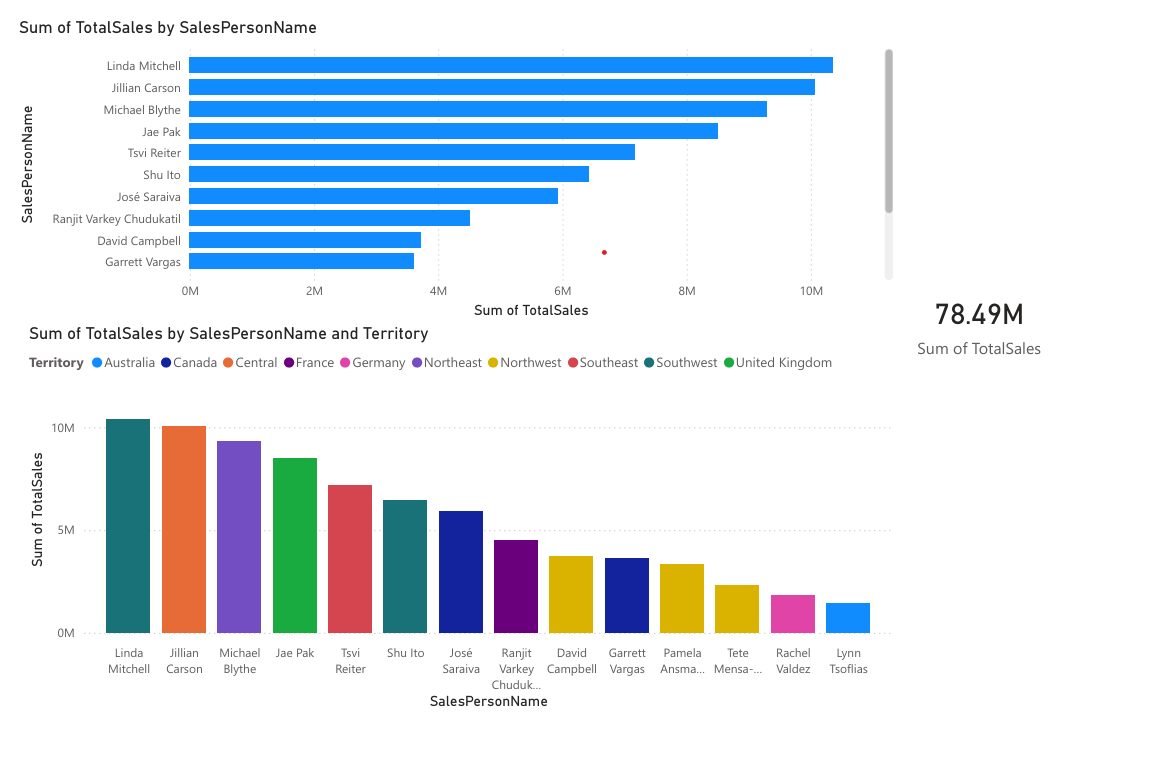

Layout of this report page (visuals, bound fields, positions):
{"tool":"powerbi","page":{"name":"Page 1","canvas":[1280,720],"ordinal":0},"visuals":[{"type":"barChart","fields":{"Category":["Sales_by_Person.SalesPersonName"],"Y":["Sum(Sales_by_Person.TotalSales)"]},"box":[0,0,1167.8,371.9],"z":0},{"type":"columnChart","fields":{"Category":["Sales_by_Person.SalesPersonName"],"Series":["Sales_by_Person.Territory"],"Y":["Sum(Sales_by_Person.TotalSales)"]},"box":[9.6,371.9,1107.4,348.5],"z":1},{"type":"card","fields":{"Values":["Sum(Sales_by_Person.TotalSales)"]},"box":[1117,260.7,163.3,222.3],"z":2}]}

Visuals, with their boxes on the page's 1280x720 design canvas (x1, y1, x2, y2). These are canvas units, not pixel positions in the 1153x782 screenshot, which may show the page scaled, cropped or inside an application window:
barChart - Sales_by_Person.SalesPersonName x Sum(Sales_by_Person.TotalSales): [0,0,1168,372]
columnChart - Sales_by_Person.SalesPersonName x Sales_by_Person.Territory: [10,372,1117,720]
card - Sum(Sales_by_Person.TotalSales): [1117,261,1280,483]
